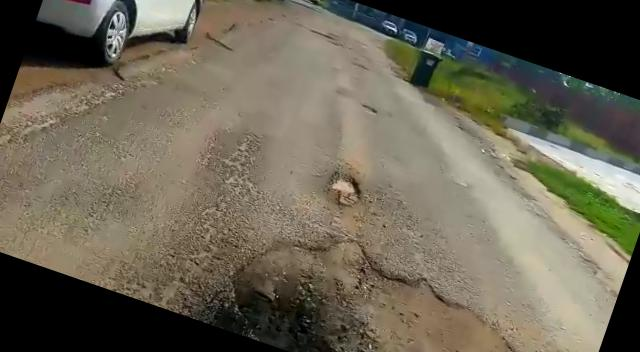pothole: (214, 212, 604, 352), (322, 168, 370, 212)
